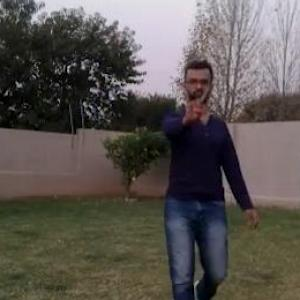takeoff-hand: (175, 83, 210, 125)
